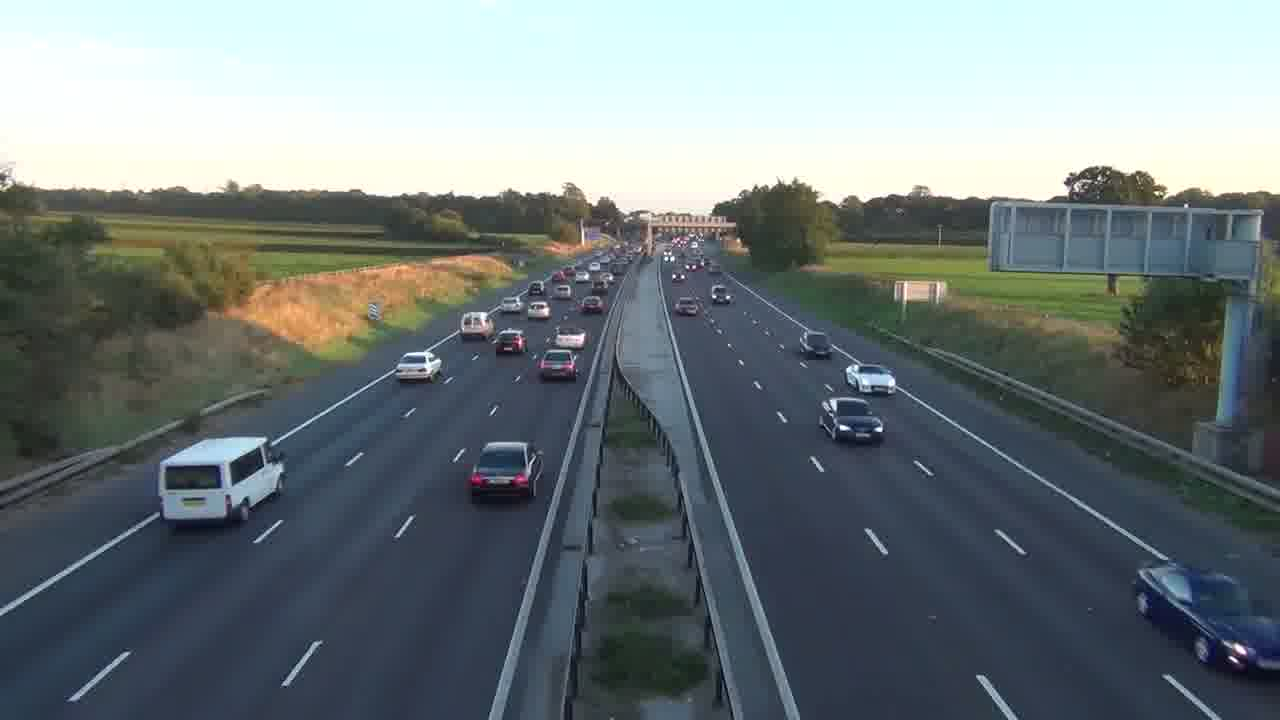bus: (157, 435, 288, 528)
car: (1132, 559, 1279, 677), (467, 441, 545, 502), (818, 397, 885, 445), (843, 363, 897, 395), (395, 349, 443, 383), (534, 349, 578, 382), (798, 328, 832, 357), (553, 324, 588, 350), (673, 296, 701, 317)
